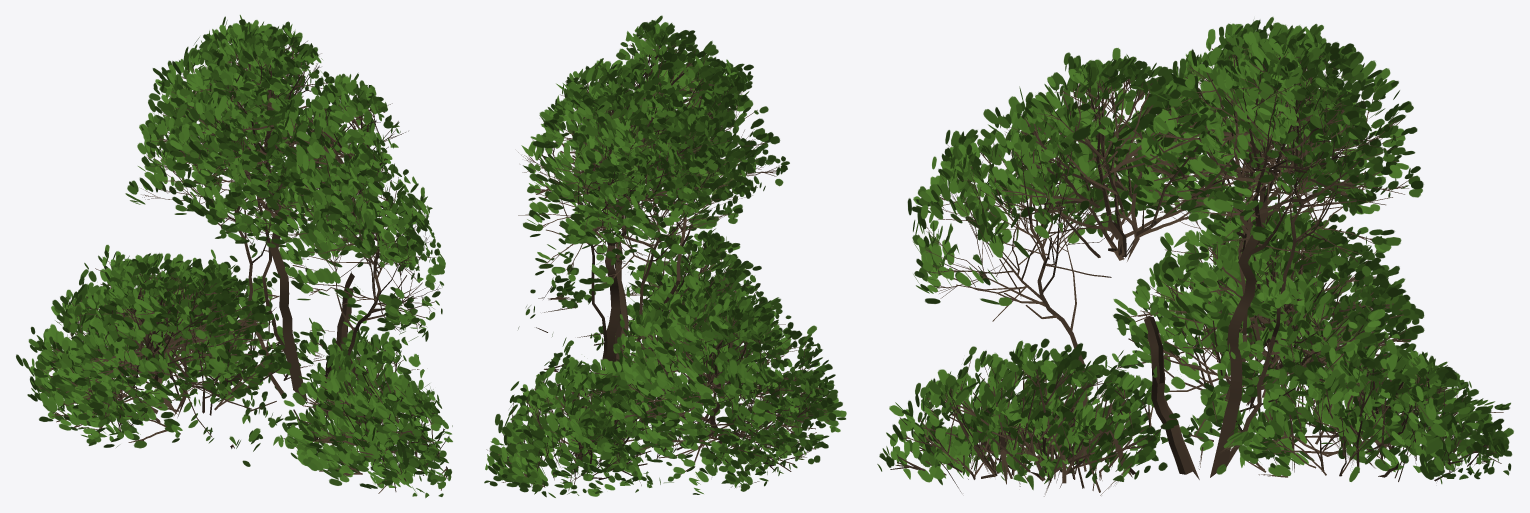
3 views of the same model, side by side, from view 1: azimuth 30°, elevation 25°; view 2: azimuth 150°, elevation 25°; view 3: azimuth 270°, elevation 25° (orthographic). The views are drawn at different scales.
Parts seen in each view (by area): view 1: oak 01.001_trunk_Mat.001_0.401; view 2: oak 01.001_trunk_Mat.001_0.401; view 3: oak 01.001_trunk_Mat.001_0.401.
Boxes of the visible parts, x1,y1,x2,y2 form: oak 01.001_trunk_Mat.001_0.401: (16, 15, 452, 498); oak 01.001_trunk_Mat.001_0.401: (484, 15, 846, 497); oak 01.001_trunk_Mat.001_0.401: (877, 17, 1513, 496).
Size of the model in its own units: 3.06 by 3.9 by 5.
2 materials, 1 textured.
